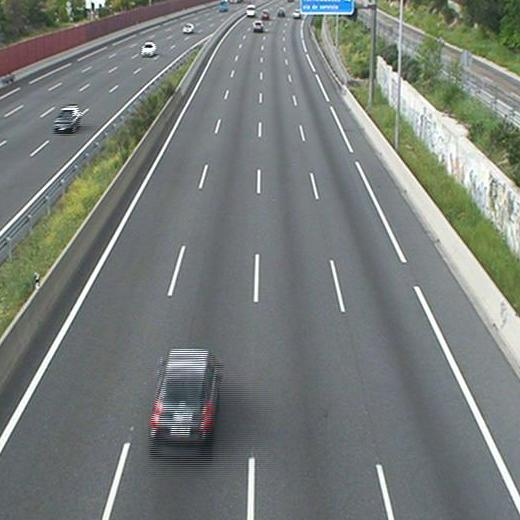car: (150, 350, 216, 435), (291, 9, 302, 19), (253, 21, 263, 32), (261, 10, 270, 19), (277, 8, 285, 16)
van: (246, 5, 255, 16)
